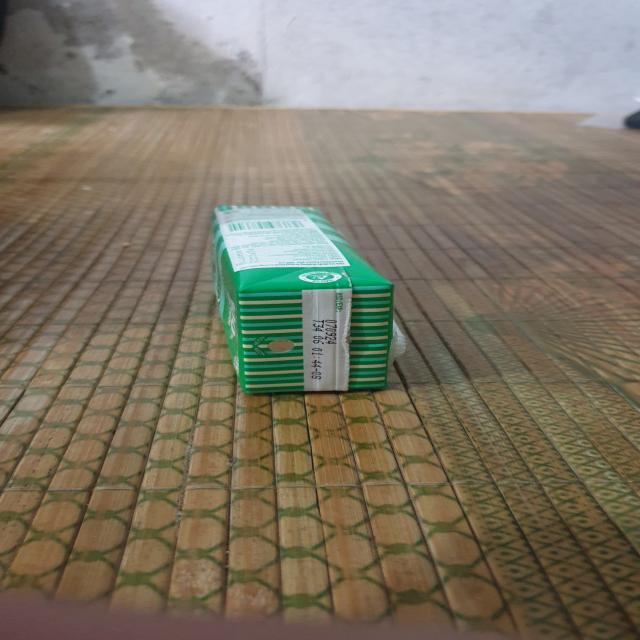Vina: (209, 203, 400, 398)
